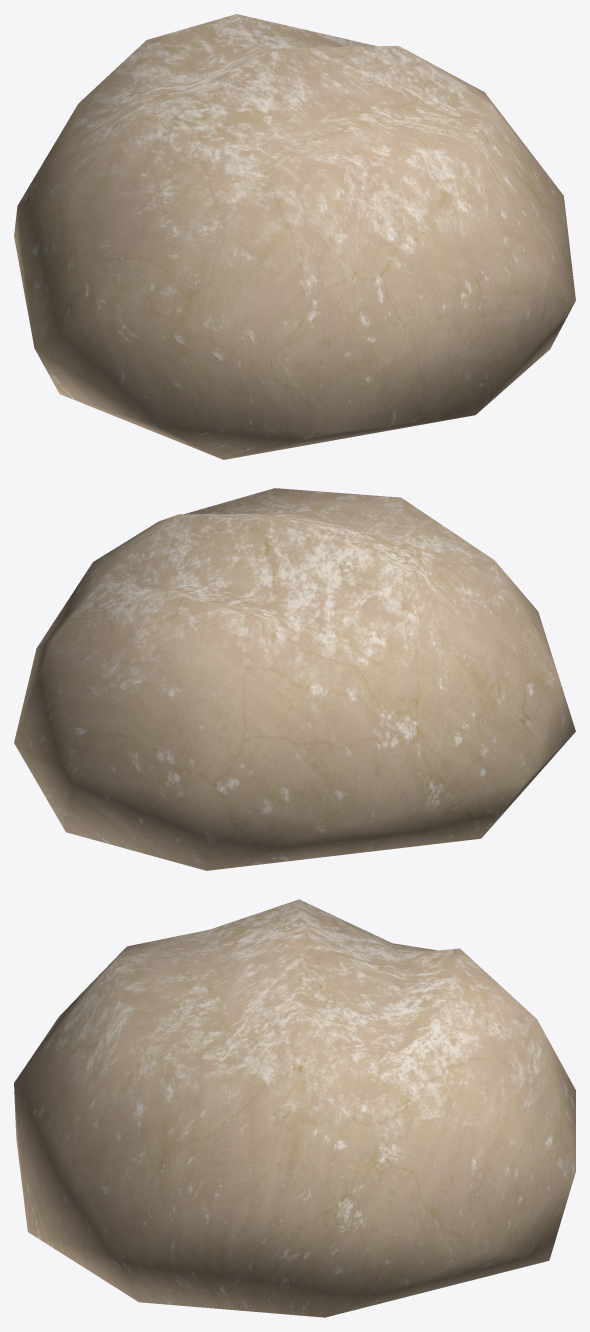
File: Dough.fbx
3 views of the same model, one above another, from view 1: azimuth 30°, elevation 25°; view 2: azimuth 150°, elevation 25°; view 3: azimuth 270°, elevation 25° (orthographic). The views are drawn at different scales.
Parts seen in each view (by area): view 1: DoughShell; view 2: DoughShell; view 3: DoughShell.
Part boxes in pixels (x1=…): DoughShell: x1=14, y1=14, x2=575, y2=459; DoughShell: x1=14, y1=488, x2=575, y2=870; DoughShell: x1=14, y1=899, x2=575, y2=1317.
Bounding box in the file's own units: 2.56 × 1.46 × 2.59.
1 material, 1 textured.
